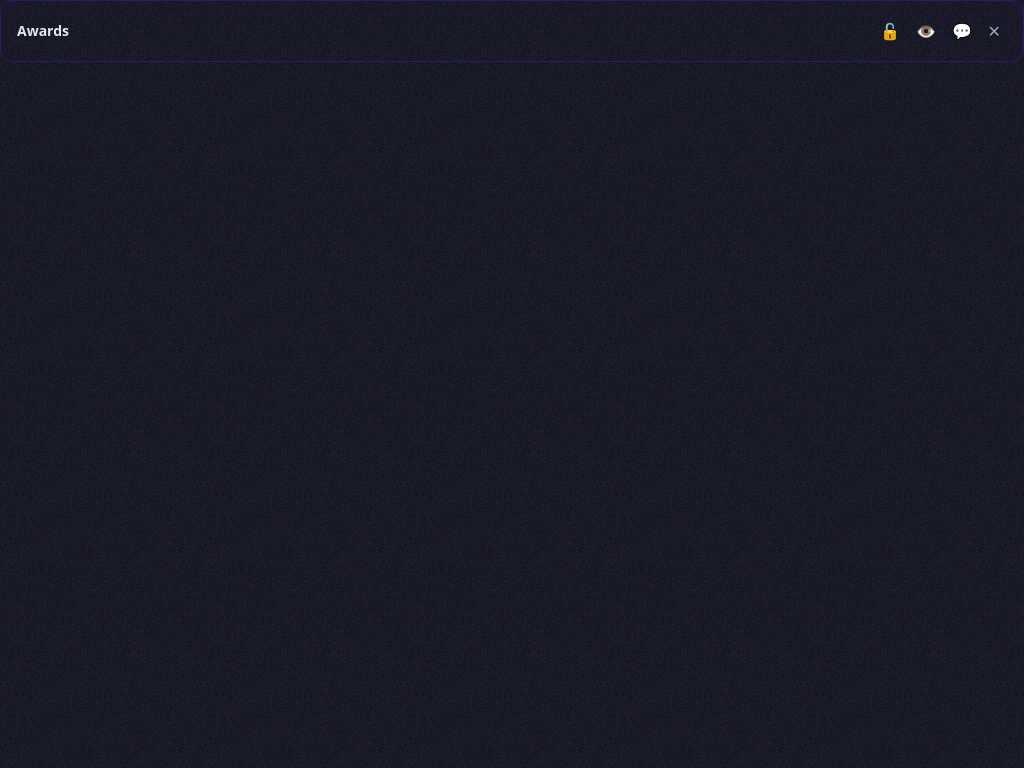
Test: SectionView custom › shows a field prompt control (opening a modal) when a field is LLM-written
What coordinates should you click on to do the following:
click the text "Awards"
I would click on:
 (43, 31)
Its box is [17,21,69,41].
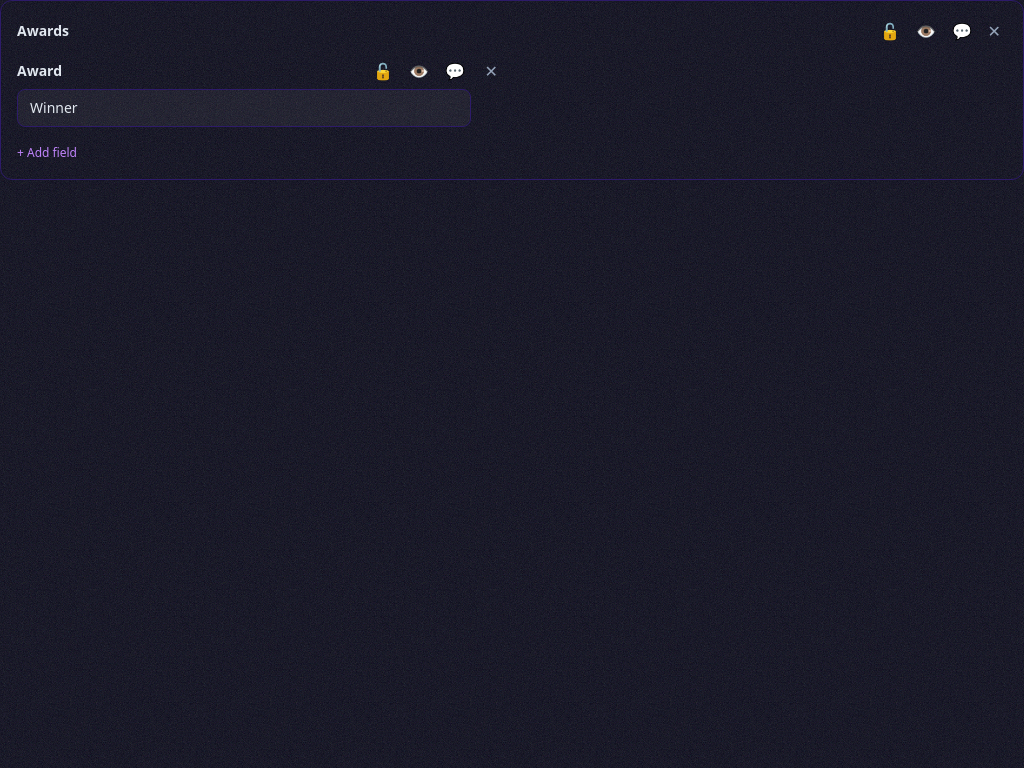
Now the button named "Lock from LLM (keep as typed)" is shown, box [367,57,399,85]
What coordinates should you click on to do the following:
click the button named "Edit field prompt"
I would click on:
 (455, 71)
Its box is [439,57,471,85].
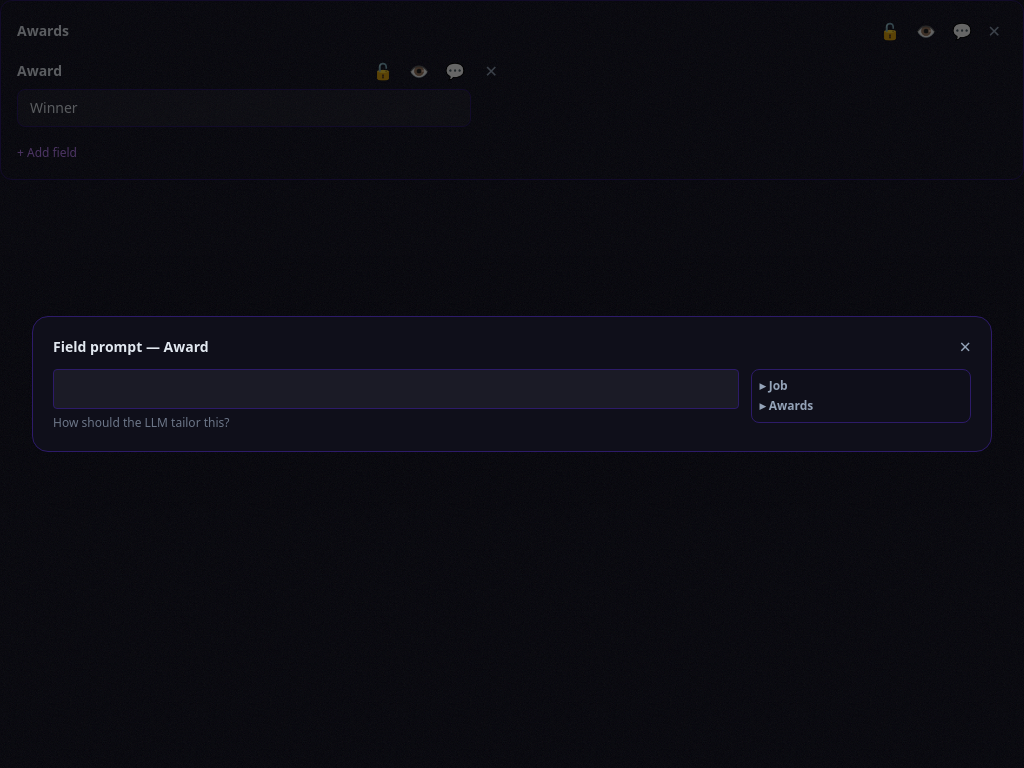
Now the button named "Close prompt editor" is shown, box [960,337,971,357]
